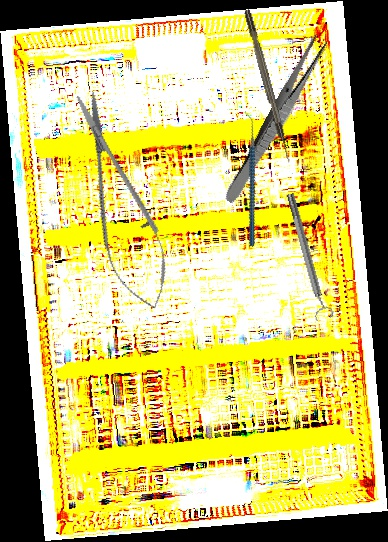Chopper: (203, 110, 295, 248)
Dressing Forceps: (221, 32, 332, 208)
Fixation Ring: (281, 190, 335, 323)
Hook Surgical: (243, 8, 293, 165)
Micro Scissor: (57, 85, 182, 317)
